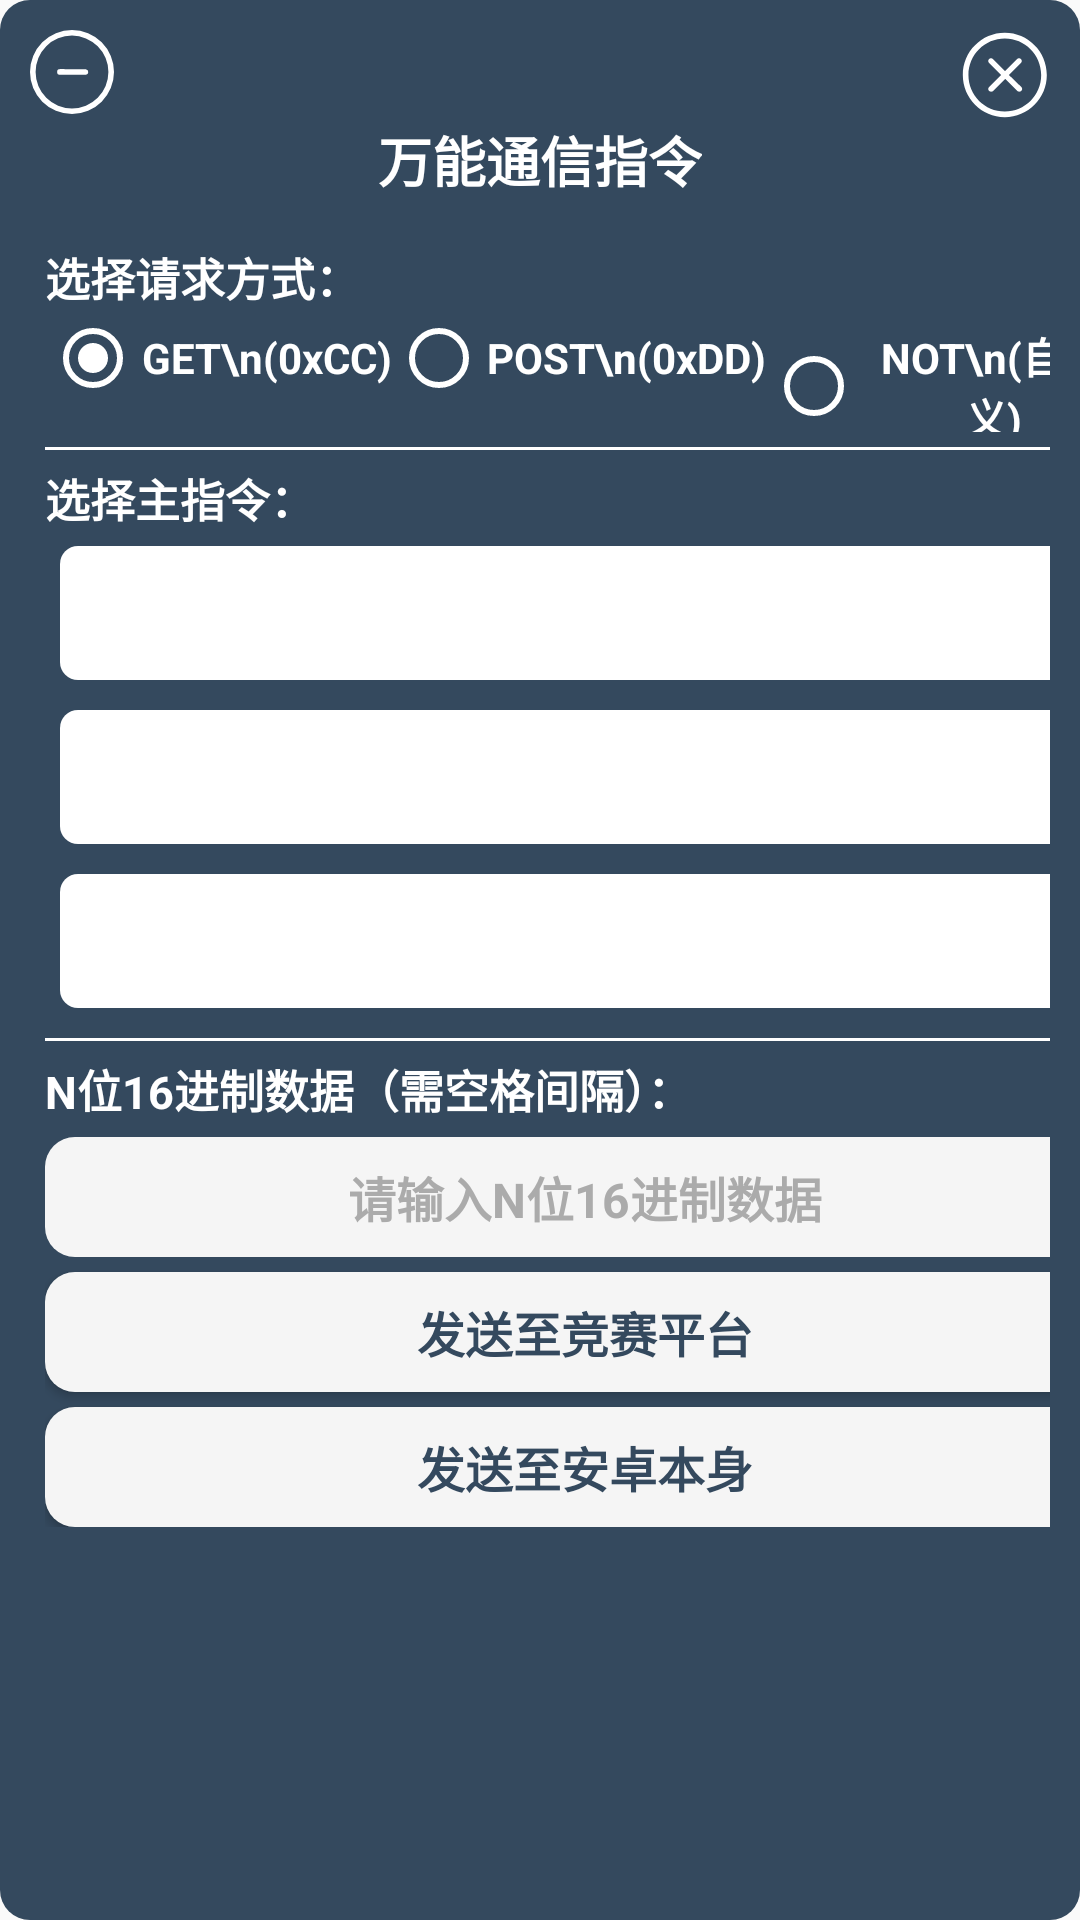

Where icons sit on this 1080*1920 app screen, as (x1, y1, x2, y2):
minimize: (30, 30, 114, 114)
关闭悬浮窗: (962, 32, 1047, 118)
